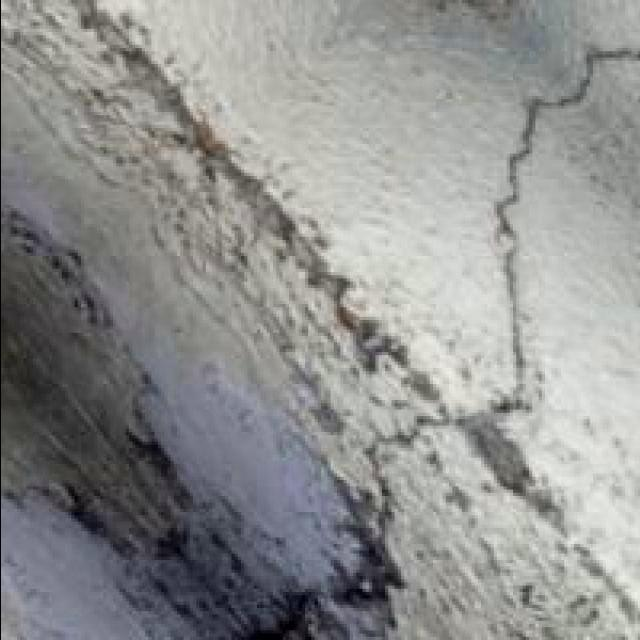SurfaceCrack: (260, 38, 640, 640)
